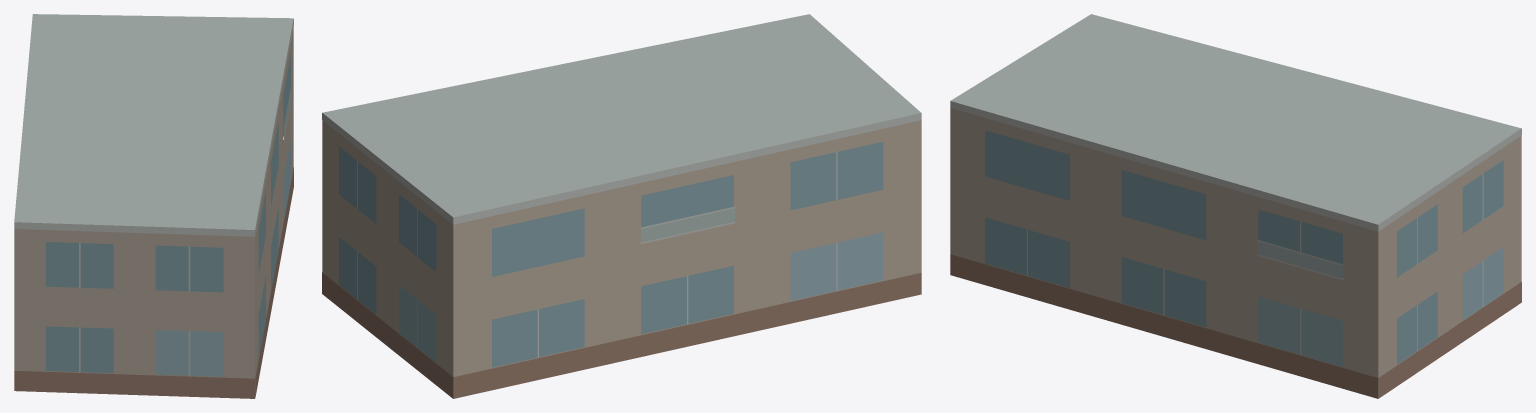
The model's file is survey-upis-32777631.glb.
3 renders of one model, left to right at view 1: azimuth 30°, elevation 25°; view 2: azimuth 150°, elevation 25°; view 3: azimuth 270°, elevation 25°, orthographic. The views are drawn at different scales.
Visible parts, largest first — view 1: survey-upis-32777631.tmp; view 2: survey-upis-32777631.tmp; view 3: survey-upis-32777631.tmp.
Part boxes in pixels (left/top/right/bottom): survey-upis-32777631.tmp: left=14, top=14, right=293, bottom=398; survey-upis-32777631.tmp: left=322, top=14, right=921, bottom=398; survey-upis-32777631.tmp: left=950, top=14, right=1521, bottom=398.
Size of the model in its own units: 15.85 by 6.1 by 18.15.
